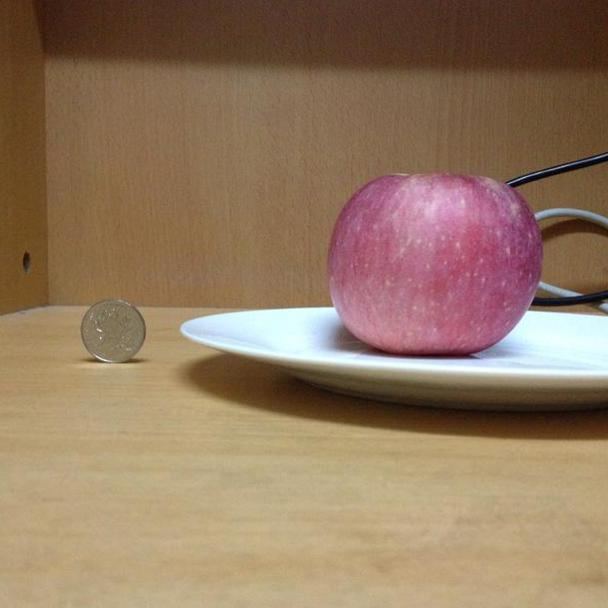apple: (326, 173, 544, 356)
